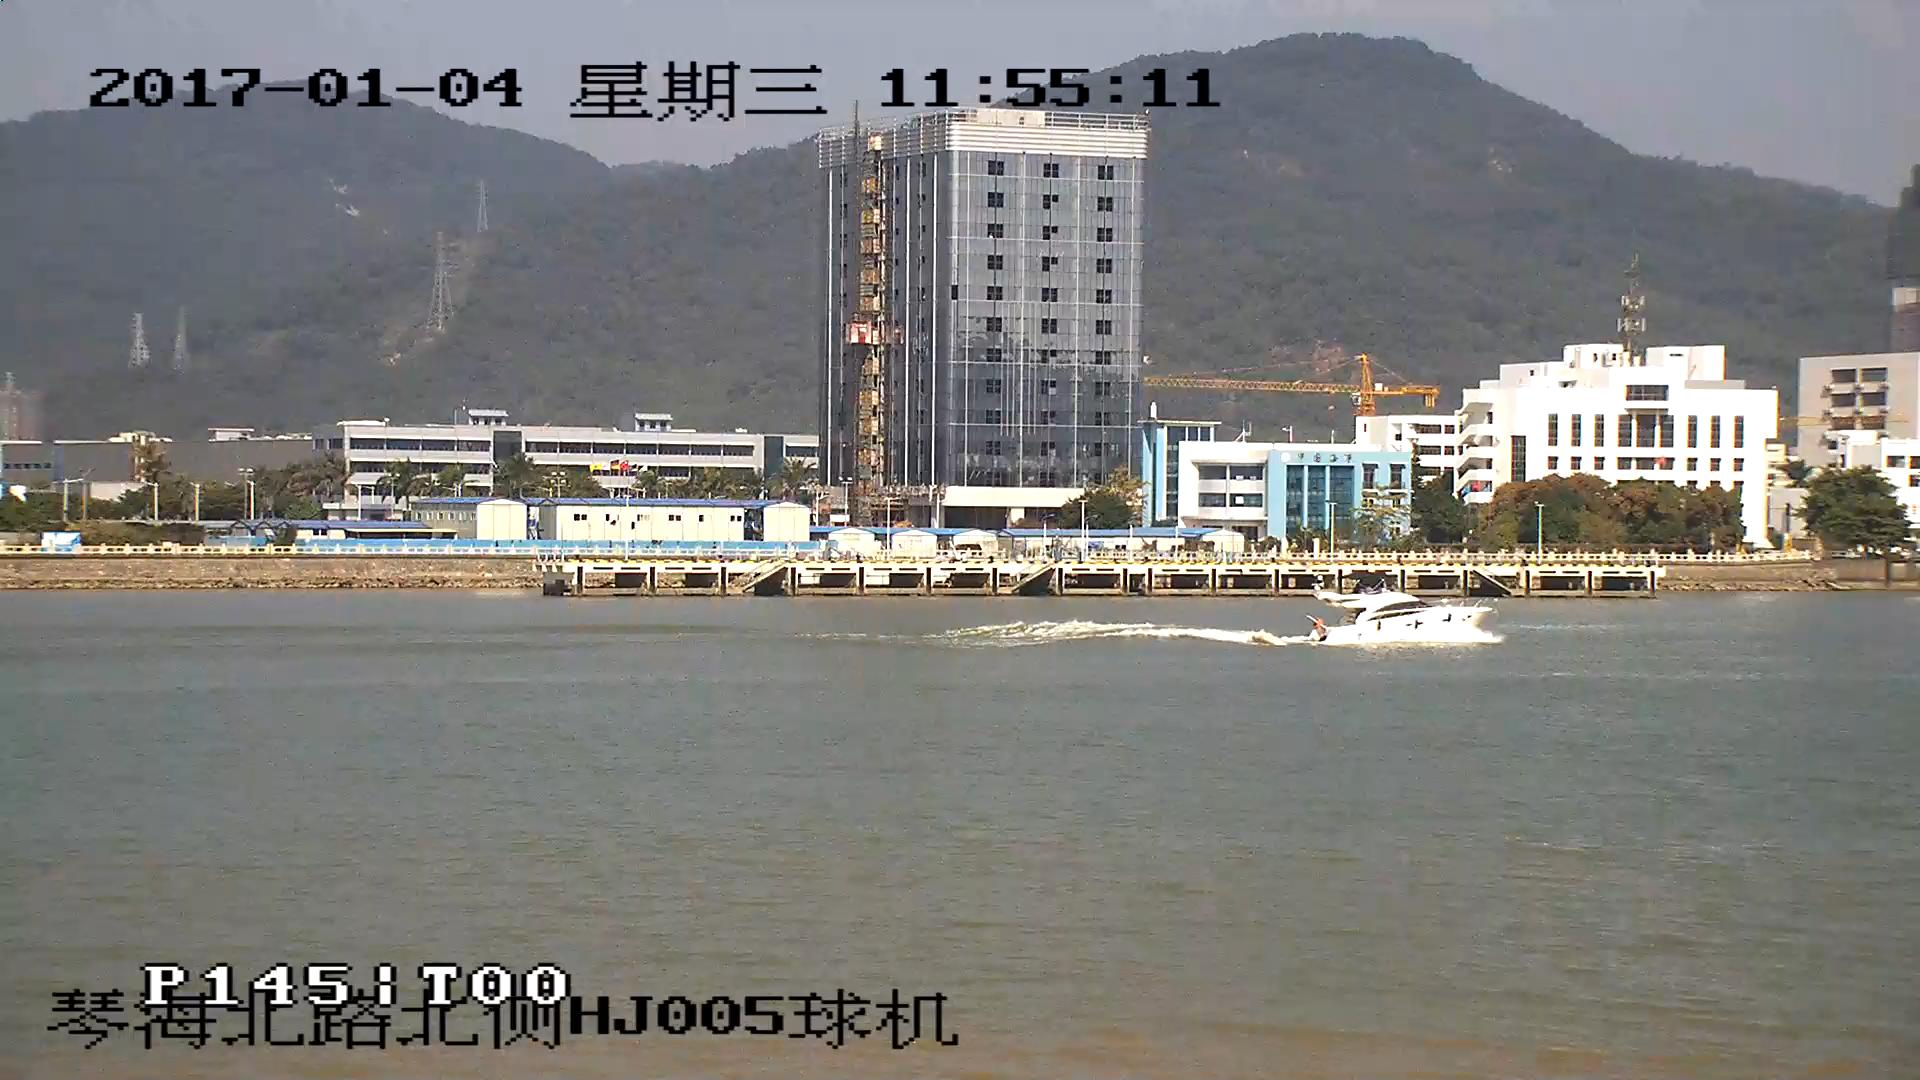passenger ship: (1316, 578, 1488, 652)
